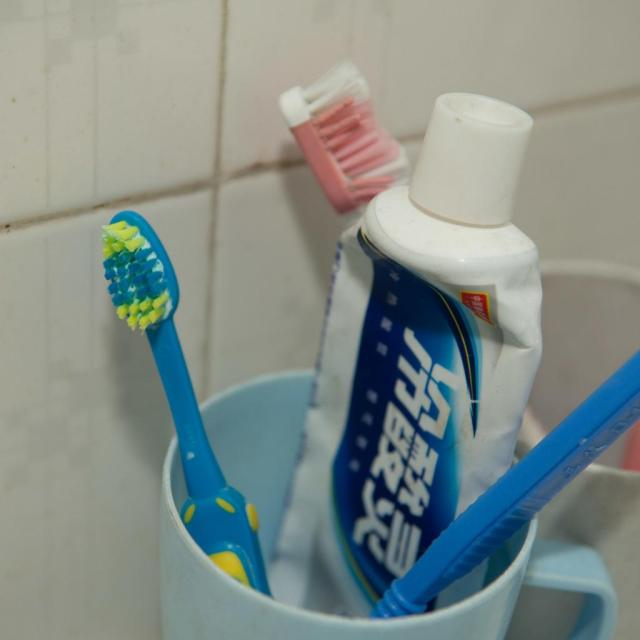Toothpaste: (302, 81, 554, 614)
